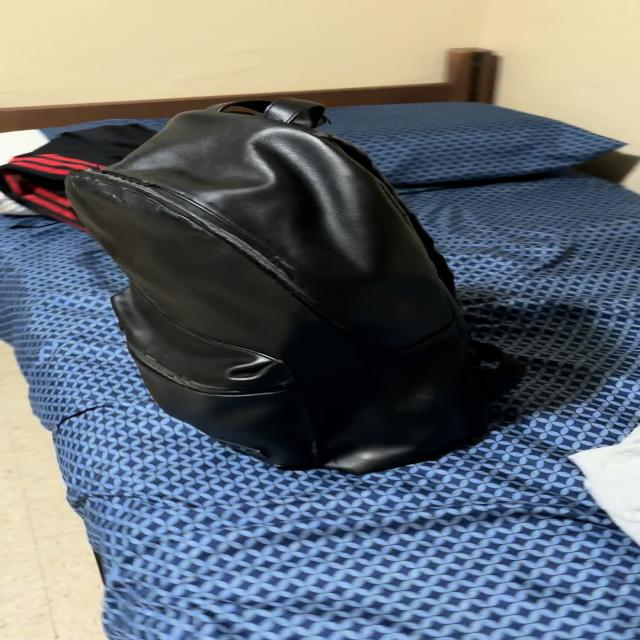backpack: (66, 99, 522, 473)
